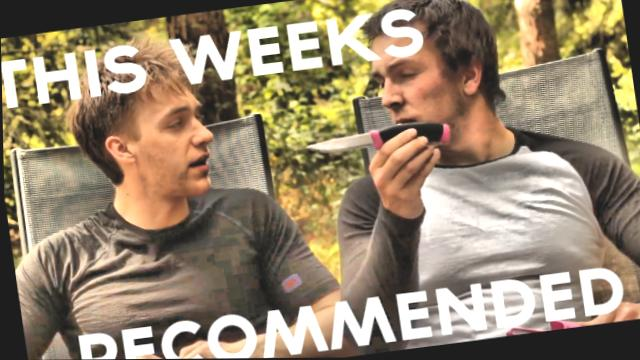knife: (291, 111, 460, 172)
